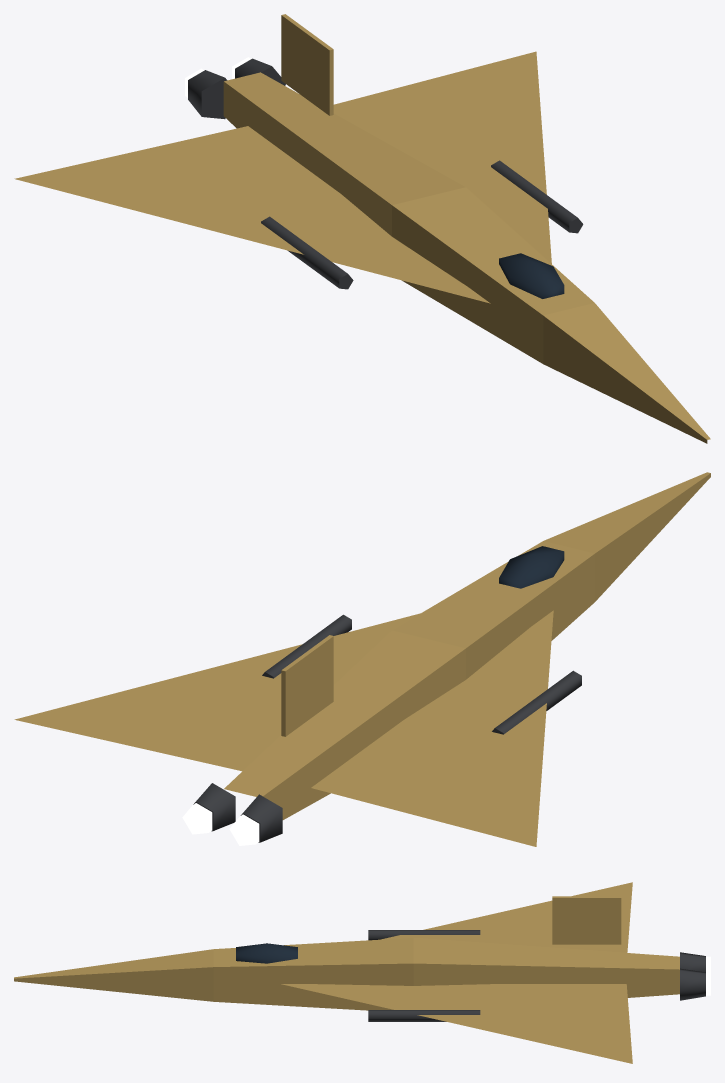
The model's file is space_ship_interceptor_mk7_lod1.glb.
3 views of the same model, one above another, from view 1: azimuth 30°, elevation 25°; view 2: azimuth 150°, elevation 25°; view 3: azimuth 270°, elevation 25° (orthographic). The views are drawn at different scales.
Visible parts, largest first — view 1: body, gun_r, engine_0, gun_l, engine_1; view 2: body, engine_0, engine_1, gun_r, gun_l; view 3: body, gun_l, engine_1, gun_r, engine_0.
Part boxes in pixels (bbox=[...]): body: bbox=[14, 14, 710, 443]; gun_r: bbox=[261, 216, 353, 289]; engine_0: bbox=[185, 68, 227, 119]; gun_l: bbox=[491, 160, 583, 233]; engine_1: bbox=[232, 57, 285, 85]; body: bbox=[14, 472, 710, 846]; engine_0: bbox=[229, 794, 282, 845]; engine_1: bbox=[182, 783, 235, 834]; gun_r: bbox=[492, 670, 581, 734]; gun_l: bbox=[262, 614, 351, 678]; body: bbox=[14, 882, 679, 1063]; gun_l: bbox=[368, 1010, 480, 1021]; engine_1: bbox=[680, 968, 710, 1000]; gun_r: bbox=[368, 930, 480, 940]; engine_0: bbox=[680, 952, 710, 972].
Size of the model in its own units: 10 by 2.65 by 16.2.
